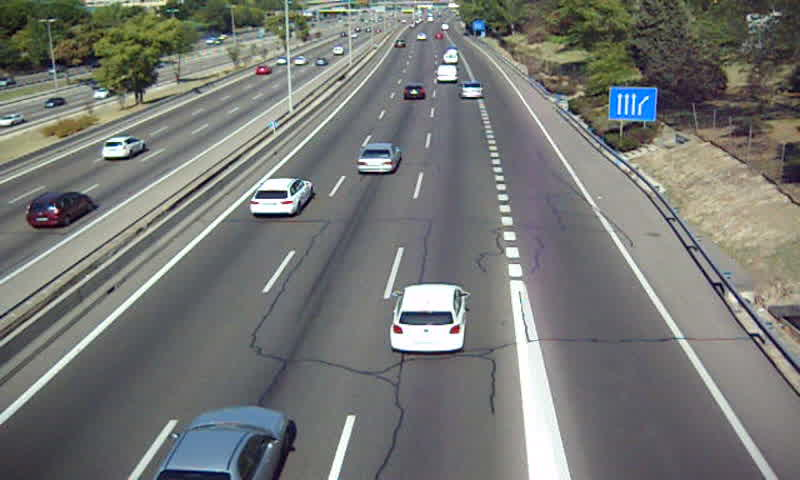car: (156, 406, 289, 480), (391, 284, 465, 353), (248, 178, 312, 216), (357, 143, 402, 175), (460, 80, 486, 100), (402, 84, 427, 101)
van: (435, 64, 458, 83), (445, 51, 459, 64)
